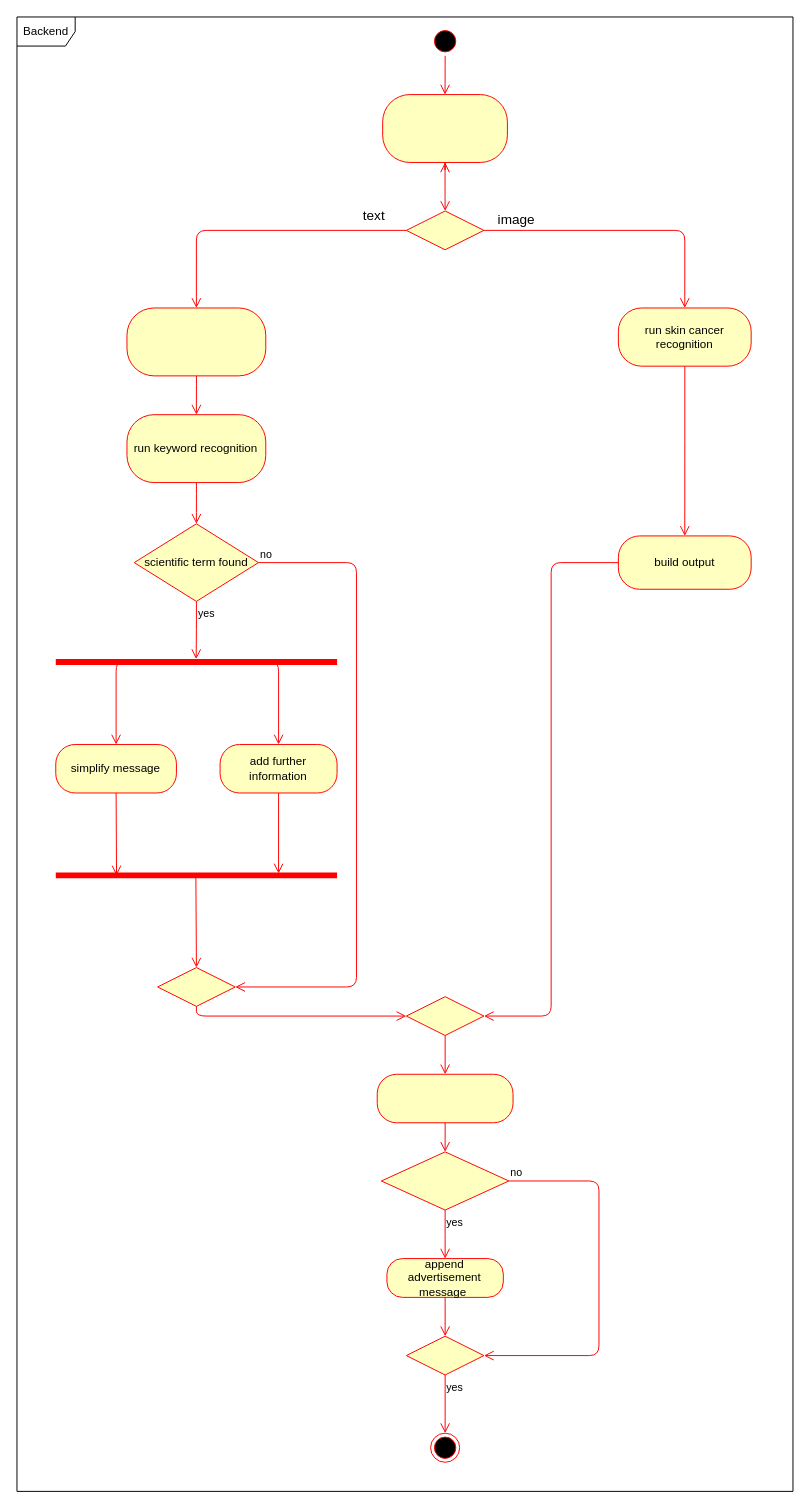
Some shapes in this 810 by 1508 pixel diagram are drawn without their labels. Each missing label, with the centre of its shape:
"Advertisement possible" belongs at [444,1180].
"detect input type" belongs at [444,128].
"retrieve answer from DocNet" belongs at [196,341].
"statistical logging" belongs at [444,1098].
